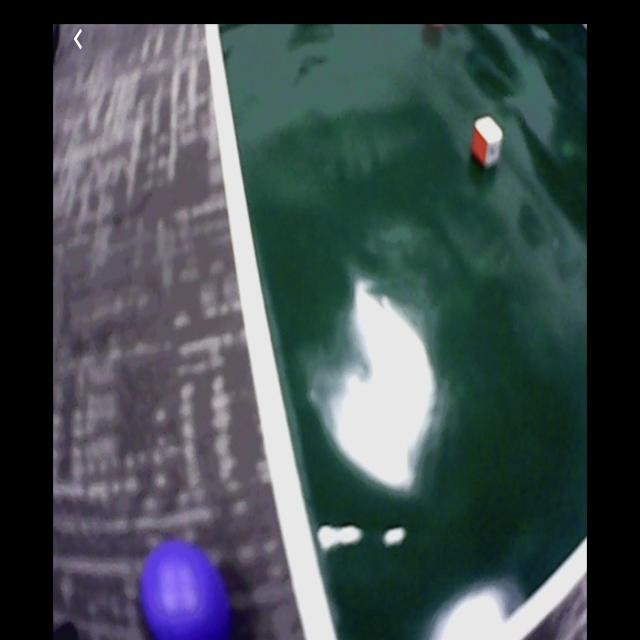ball: (141, 539, 227, 640)
